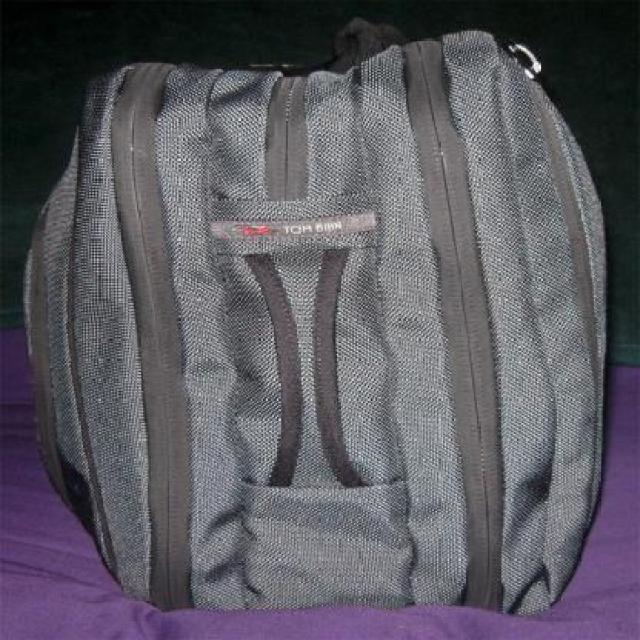backpack: (18, 20, 614, 623)
